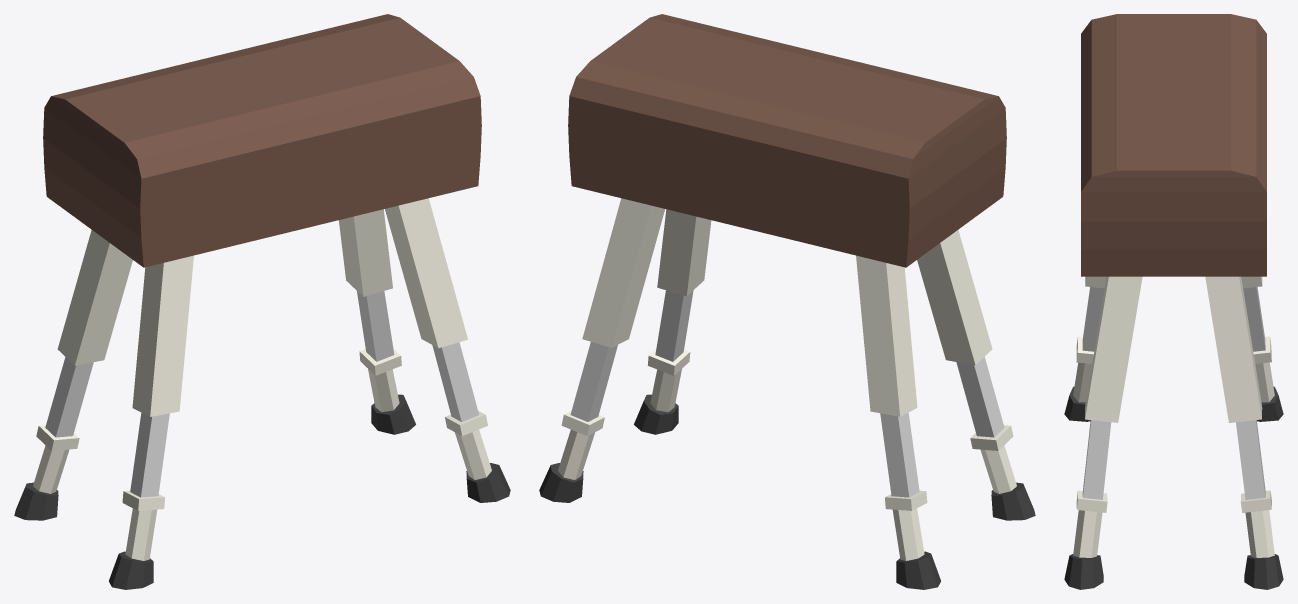
The model's file is Bok01_LOD0.fbx.
3 views of the same model, side by side, from view 1: azimuth 30°, elevation 25°; view 2: azimuth 150°, elevation 25°; view 3: azimuth 270°, elevation 25° (orthographic). The views are drawn at different scales.
Parts seen in each view (by area): view 1: Bok01_LOD0; view 2: Bok01_LOD0; view 3: Bok01_LOD0.
Boxes of the visible parts, left/top/right/bottom form: Bok01_LOD0: left=14, top=14, right=510, bottom=589; Bok01_LOD0: left=539, top=14, right=1035, bottom=589; Bok01_LOD0: left=1064, top=14, right=1283, bottom=589.
Bounding box in the file's own units: 1.18 × 1.19 × 0.5861.
